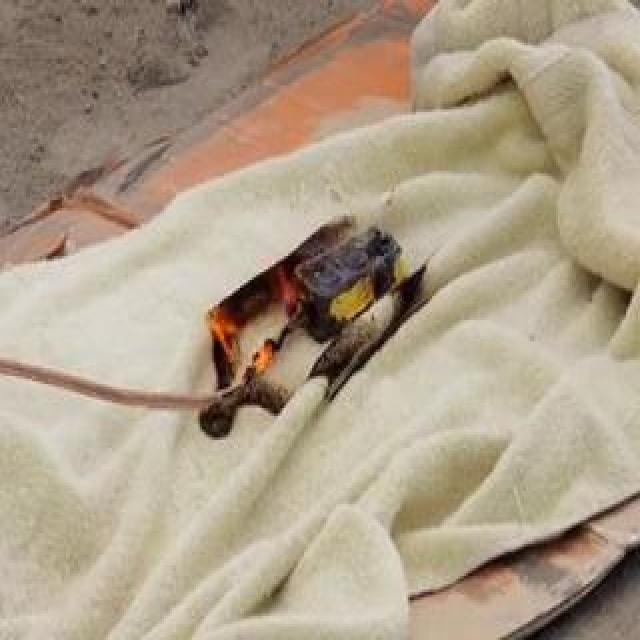Fire: (225, 250, 303, 386)
